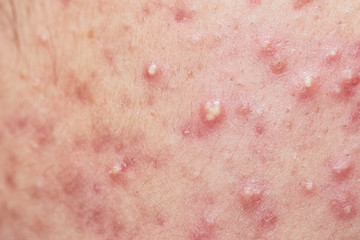acene: (111, 28, 352, 232)
